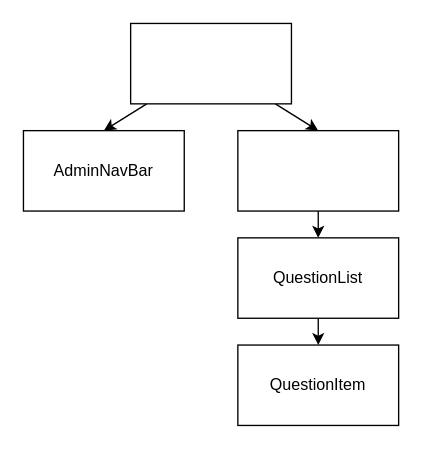
Image size: 422x449. Some labels were removed from this diagram. Each missing label, with the centre of its shape:
App: point 210,63
QuestionForm: point 318,170
